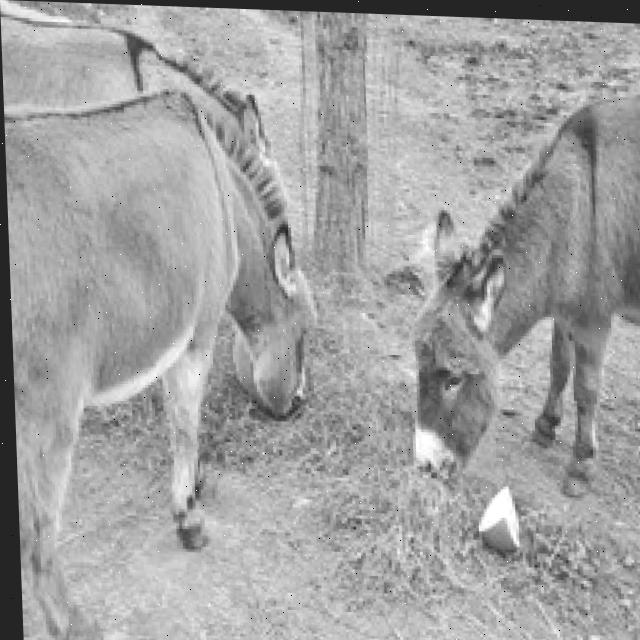Donkey: (9, 83, 323, 629), (396, 78, 640, 510), (5, 3, 273, 246)
